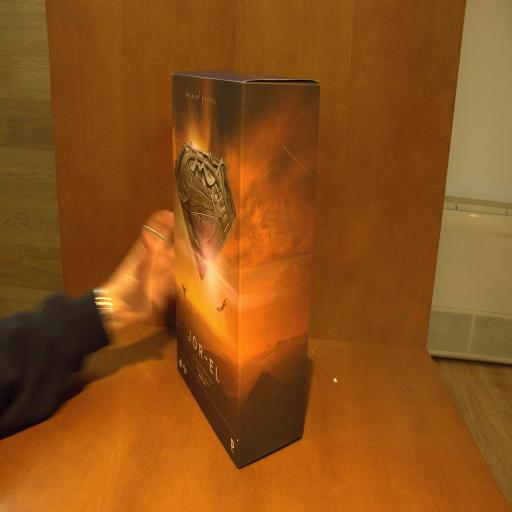superman: (170, 68, 320, 473)
